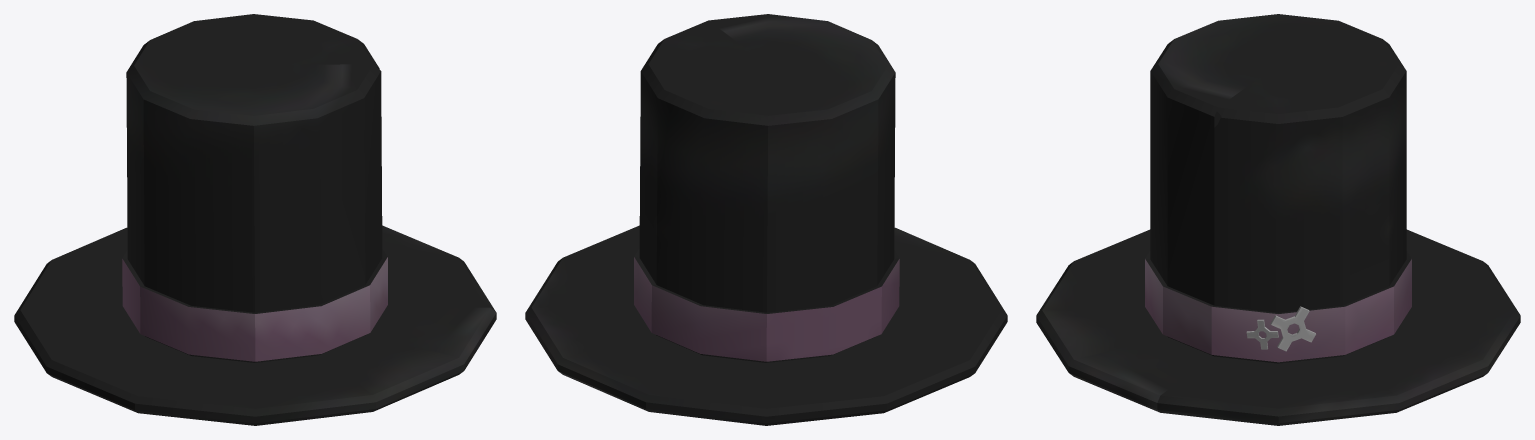
File: TopHat.fbx
The picture shows the model from 3 angles, left to right: view 1: azimuth 30°, elevation 25°; view 2: azimuth 150°, elevation 25°; view 3: azimuth 270°, elevation 25°; orthographic projection.
Parts seen in each view (by area): view 1: steampunk hat; view 2: steampunk hat; view 3: steampunk hat.
Boxes of the visible parts, bbox=[...] form: steampunk hat: bbox=[14, 14, 496, 425]; steampunk hat: bbox=[525, 14, 1007, 425]; steampunk hat: bbox=[1036, 14, 1520, 425].
Bounding box in the file's own units: 379 × 228 × 379.
